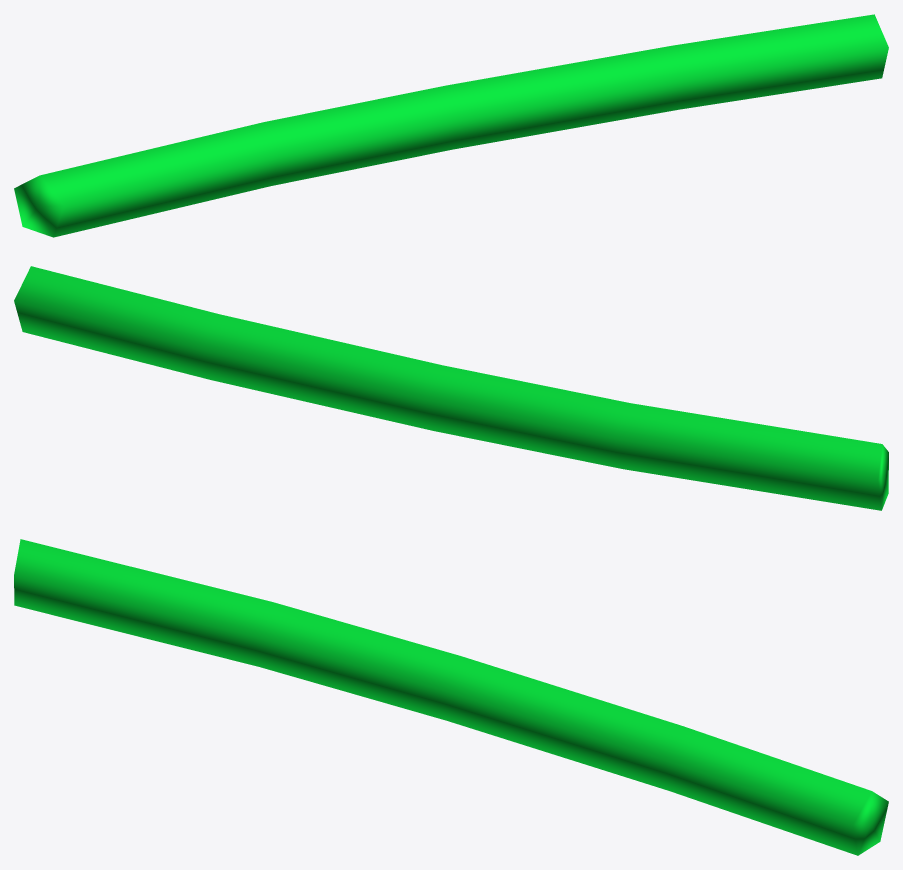
File: Pipe_Turn_E_Int.fbx
The picture shows the model from 3 angles, top to bottom: view 1: azimuth 30°, elevation 25°; view 2: azimuth 150°, elevation 25°; view 3: azimuth 330°, elevation 25°; orthographic projection. The views are drawn at different scales.
Visible parts, largest first — view 1: Pipe_Turn_E_Int; view 2: Pipe_Turn_E_Int; view 3: Pipe_Turn_E_Int.
Boxes of the visible parts, left/top/right/bottom form: Pipe_Turn_E_Int: left=14, top=14, right=888, bottom=237; Pipe_Turn_E_Int: left=14, top=266, right=888, bottom=510; Pipe_Turn_E_Int: left=14, top=539, right=888, bottom=855.
Bounding box in the file's own units: 3.18 × 0.3332 × 0.322.
